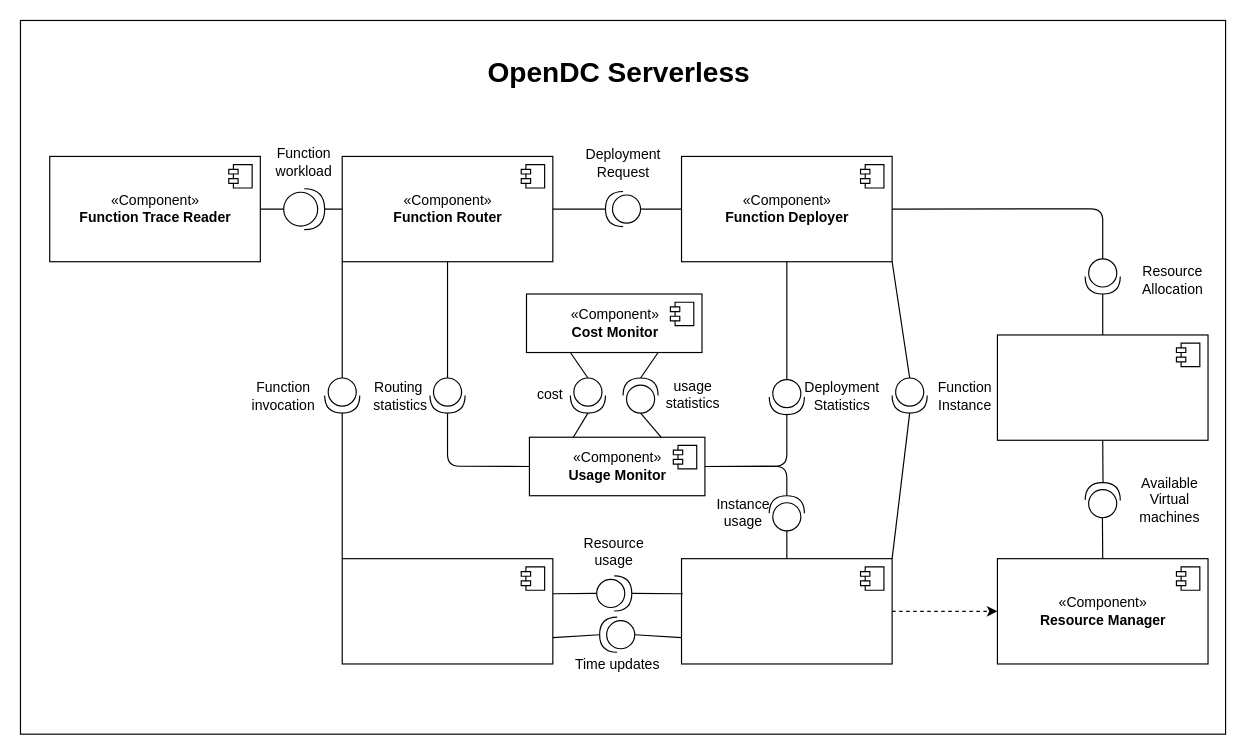
This 1246x755 diagram has some shape labels left out. The shapes that lost their labels are listed below. From the top down, each one's box as (x1, y1, x2, y2) in pixels, then its label:
(996, 334, 1208, 440): «Component» Resource Scheduler
(341, 558, 553, 664): «Component» Function instance
(680, 558, 892, 664): «Component» Instance Hypervisor
